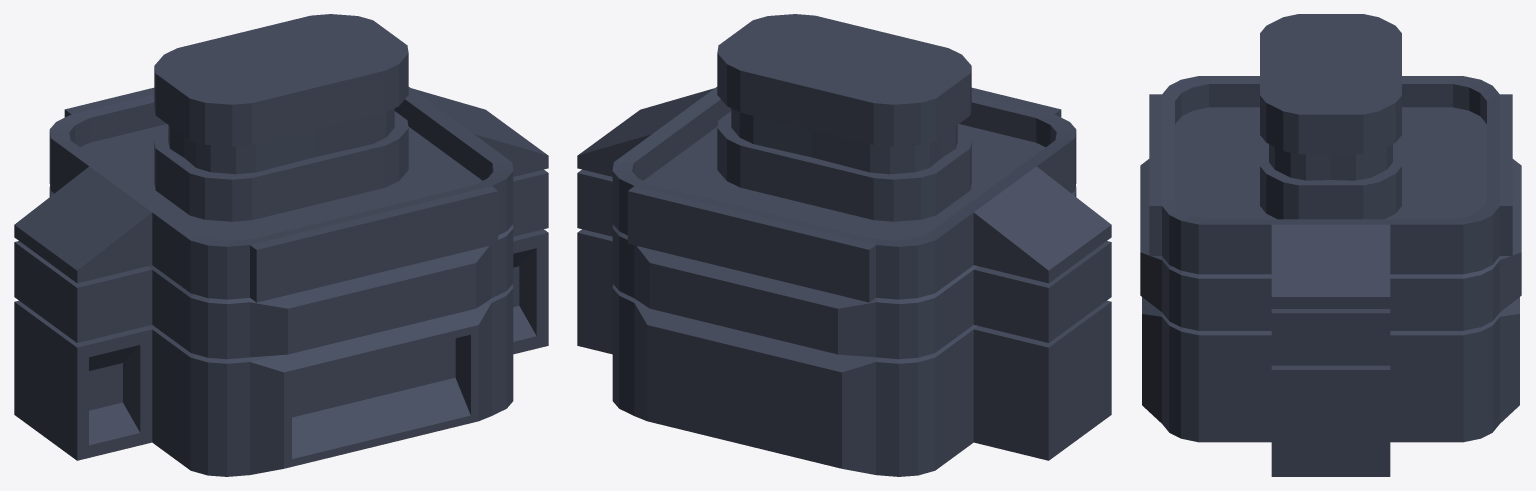
File: SM_metal_support_08.fbx
The picture shows the model from 3 angles, left to right: view 1: azimuth 30°, elevation 25°; view 2: azimuth 150°, elevation 25°; view 3: azimuth 270°, elevation 25°; orthographic projection. The views are drawn at different scales.
Parts seen in each view (by area): view 1: metal_support_08; view 2: metal_support_08; view 3: metal_support_08.
Boxes of the visible parts, <box> form: metal_support_08: <box>14,14,548,476</box>; metal_support_08: <box>577,14,1111,476</box>; metal_support_08: <box>1140,14,1521,476</box>.
Size of the model in its own units: 69.77 by 45.39 by 51.59.
